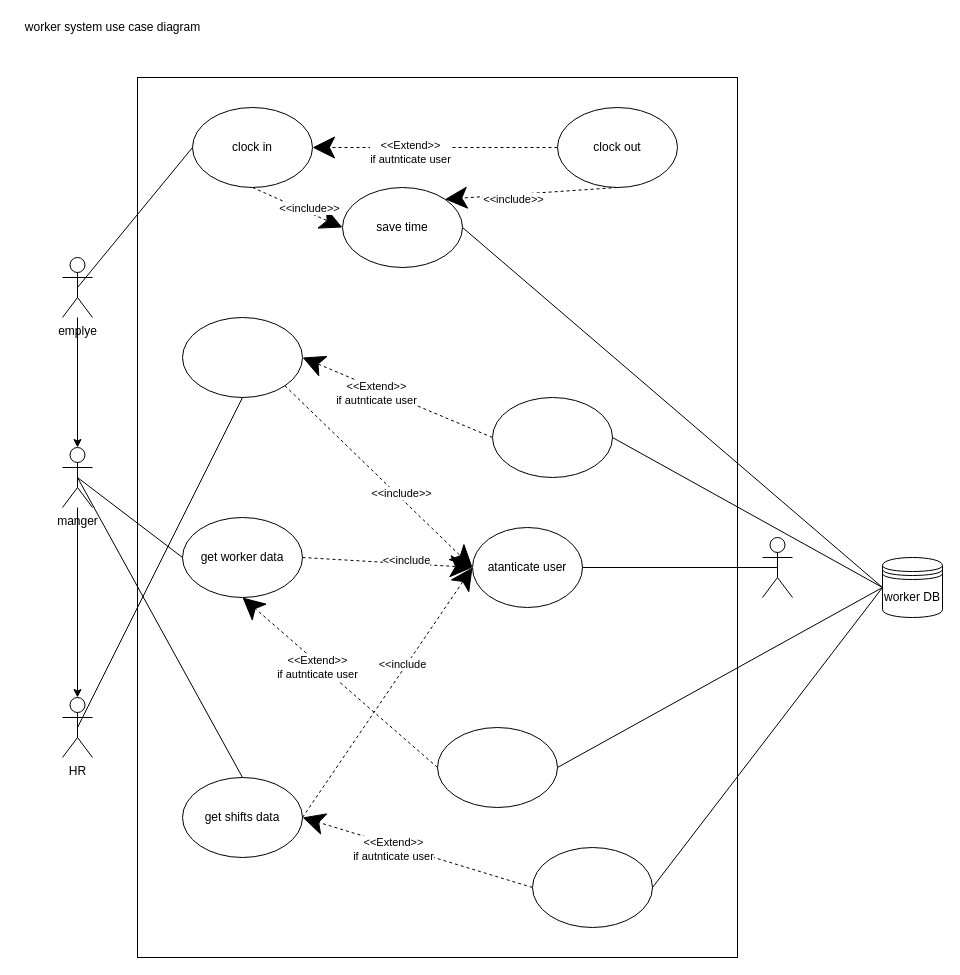
Some shapes in this 960 by 975 pixel diagram are drawn without their labels. The shapes that lost their labels are listed below. From the top down, each one's centre as x and y in pixels, then its label:
[242,357]: create new worker
[552,437]: save new worker
[777,567]: autanticate service
[497,767]: get worker Date
[592,887]: get shift data
